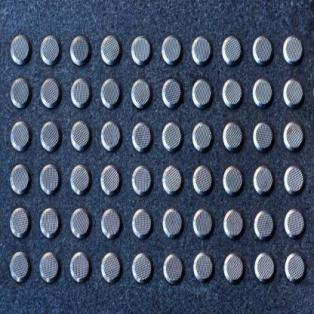Podoctatil: (7, 30, 306, 286)
